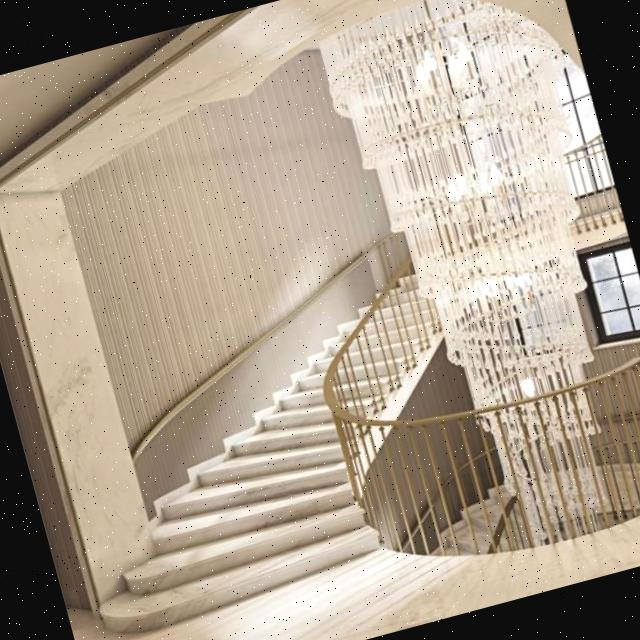stairs: (30, 255, 499, 640)
